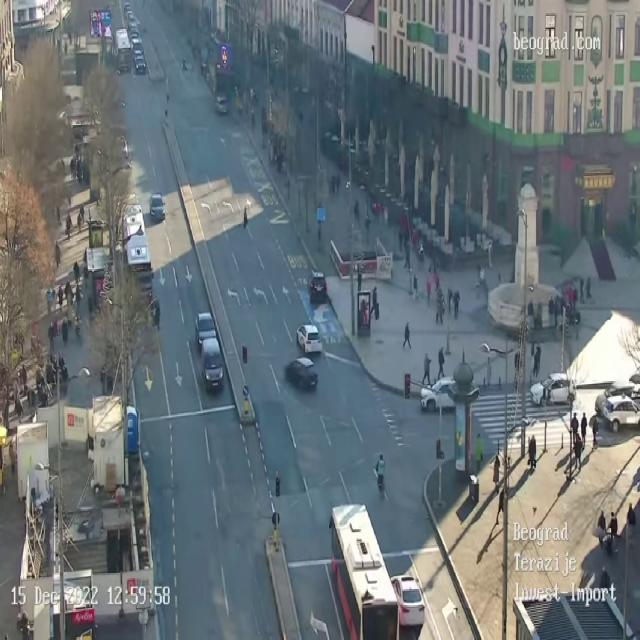bus: (328, 502, 397, 640), (122, 203, 153, 311), (116, 28, 131, 71)
car: (390, 574, 425, 628), (531, 371, 577, 408), (423, 381, 477, 409), (595, 383, 640, 413), (602, 395, 640, 430), (201, 337, 224, 390), (283, 359, 319, 389), (194, 314, 216, 352), (306, 273, 328, 309), (296, 324, 322, 354), (150, 195, 165, 224), (216, 94, 229, 116), (133, 38, 143, 56), (135, 56, 145, 71)
